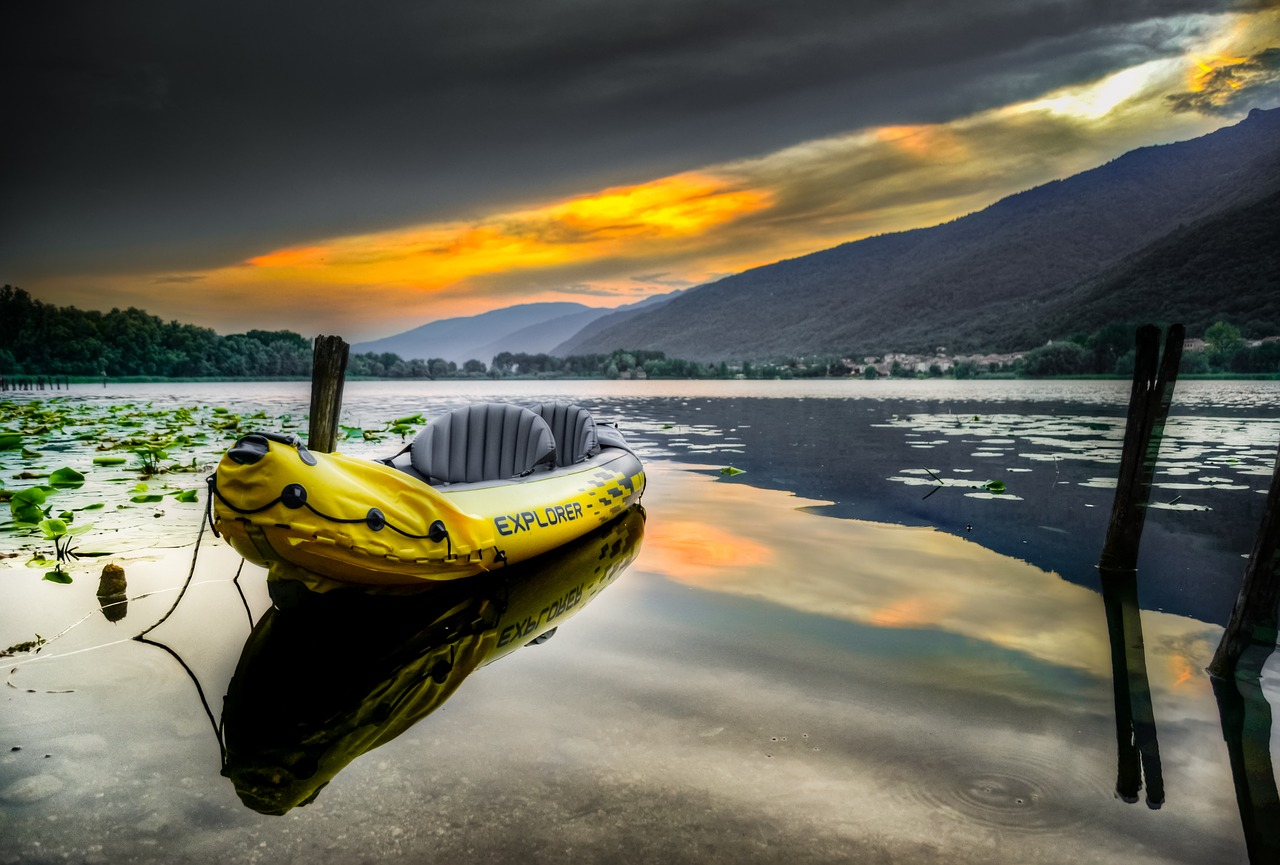kayak: (204, 395, 659, 598)
